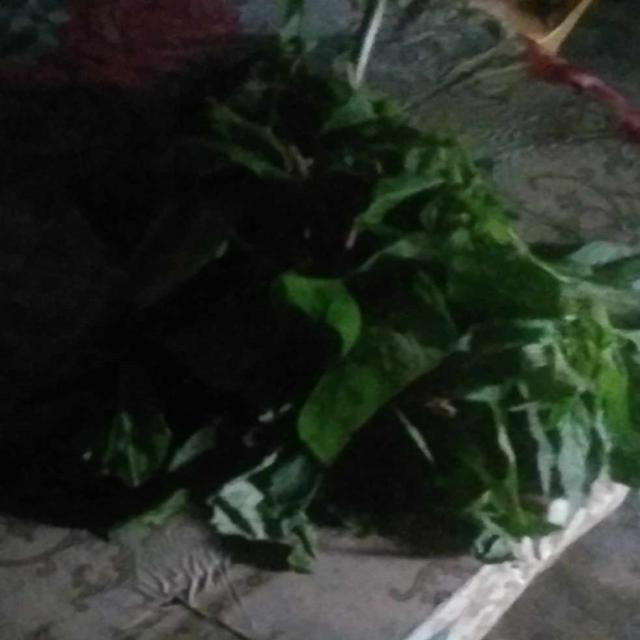Spinach: (126, 41, 624, 574)
